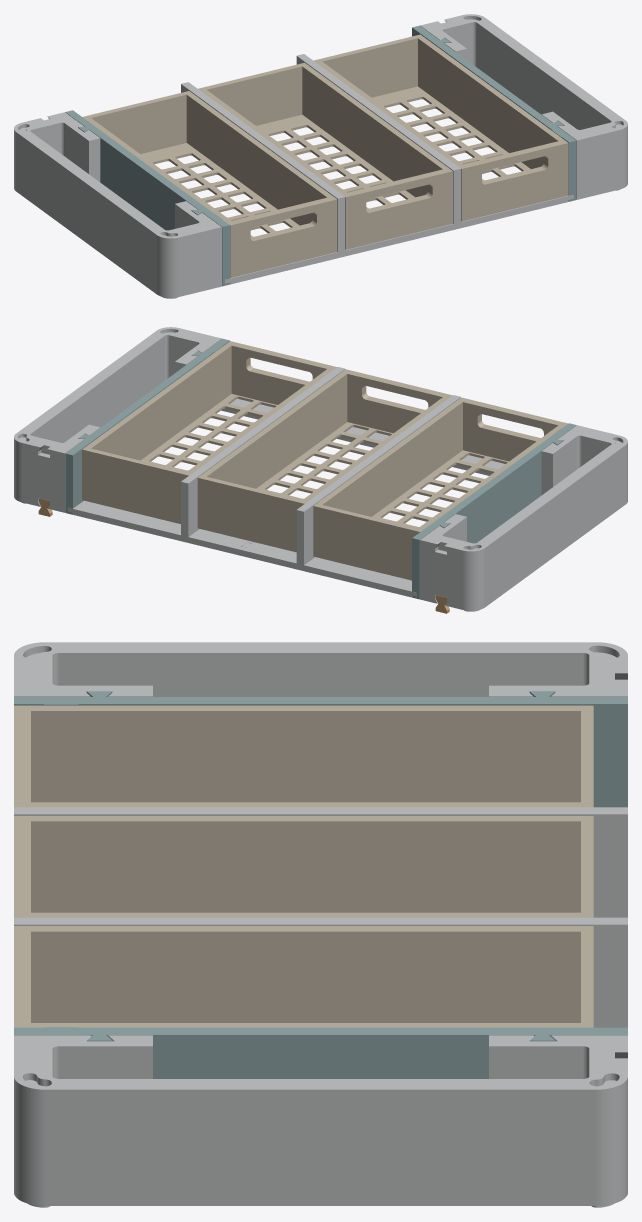
File: layer-assembly.glb
The picture shows the model from 3 angles, top to bottom: view 1: azimuth 30°, elevation 25°; view 2: azimuth 150°, elevation 25°; view 3: azimuth 270°, elevation 25°; orthographic projection. The views are drawn at different scales.
Parts seen in each view (by area): view 1: E04, E05, E03, E06, E07, E14, E15, E01, E02, E08, E09; view 2: E04, E03, E05, E06, E07, E14, E11, E10, E15, E01, E02, E09; view 3: E07, E03, E04, E05, E06, E15, E14, E01, E02.
Part boxes in pixels (x1=…): E04: x1=198, y1=62, x2=452, y2=249; E05: x1=313, y1=34, x2=568, y2=221; E03: x1=82, y1=91, x2=337, y2=277; E06: x1=14, y1=112, x2=221, y2=298; E07: x1=420, y1=14, x2=627, y2=199; E14: x1=65, y1=110, x2=229, y2=286; E15: x1=412, y1=25, x2=576, y2=201; E01: x1=181, y1=82, x2=345, y2=252; E02: x1=296, y1=54, x2=460, y2=223; E08: x1=225, y1=237, x2=399, y2=284; E09: x1=399, y1=194, x2=573, y2=242; E04: x1=197, y1=369, x2=452, y2=552; E03: x1=313, y1=397, x2=568, y2=580; E05: x1=82, y1=341, x2=336, y2=523; E06: x1=420, y1=425, x2=627, y2=611; E07: x1=14, y1=327, x2=221, y2=512; E14: x1=412, y1=423, x2=576, y2=599; E11: x1=68, y1=500, x2=253, y2=555; E10: x1=241, y1=542, x2=416, y2=597; E15: x1=65, y1=338, x2=229, y2=514; E01: x1=296, y1=395, x2=460, y2=565; E02: x1=181, y1=367, x2=345, y2=536; E09: x1=221, y1=399, x2=389, y2=447; E07: x1=14, y1=1035, x2=627, y2=1207; E03: x1=14, y1=705, x2=593, y2=807; E04: x1=14, y1=816, x2=593, y2=917; E05: x1=14, y1=926, x2=593, y2=1027; E06: x1=14, y1=642, x2=627, y2=696; E15: x1=14, y1=1027, x2=627, y2=1078; E14: x1=14, y1=691, x2=627, y2=807; E01: x1=14, y1=807, x2=627, y2=917; E02: x1=14, y1=917, x2=627, y2=1027.
Bounding box in the file's own units: 0.495 × 0.068 × 0.287.
